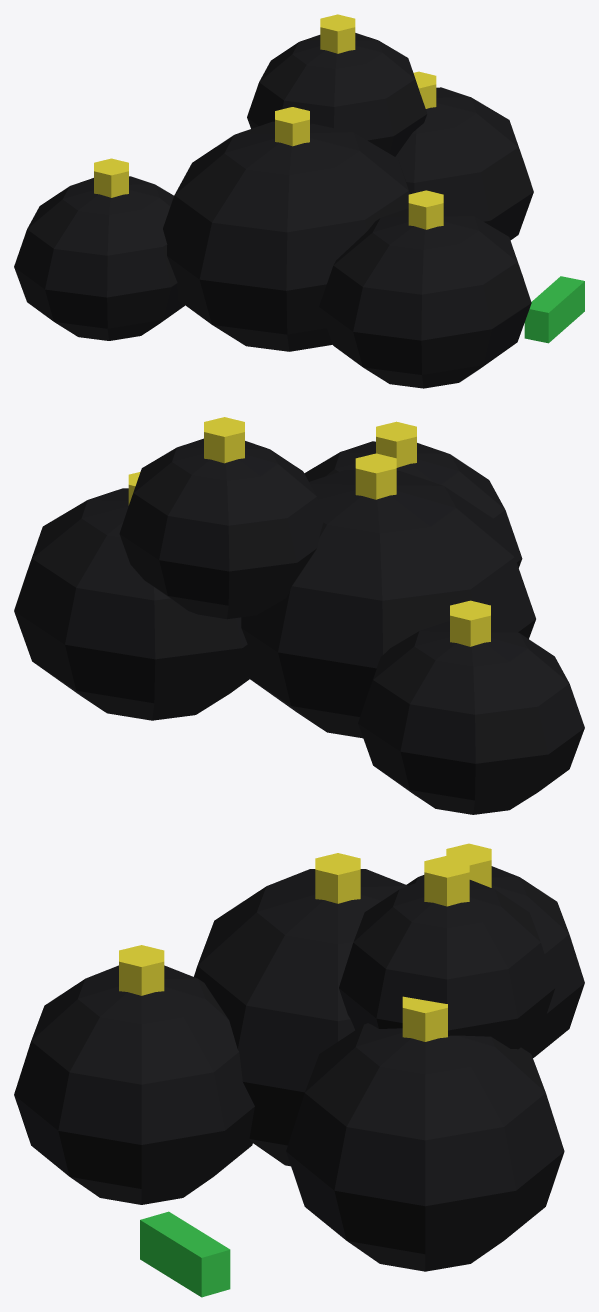
Rendered from trash_bags.glb.
The picture shows the model from 3 angles, top to bottom: view 1: azimuth 30°, elevation 25°; view 2: azimuth 150°, elevation 25°; view 3: azimuth 270°, elevation 25°; orthographic projection. The views are drawn at different scales.
Parts seen in each view (by area): view 1: trash_bags; view 2: trash_bags; view 3: trash_bags.
Boxes of the visible parts, <box> form: trash_bags: <box>14,14,584,388</box>; trash_bags: <box>14,417,584,814</box>; trash_bags: <box>14,843,584,1297</box>.
Bounding box in the file's own units: 1.64 × 0.865 × 1.31.
